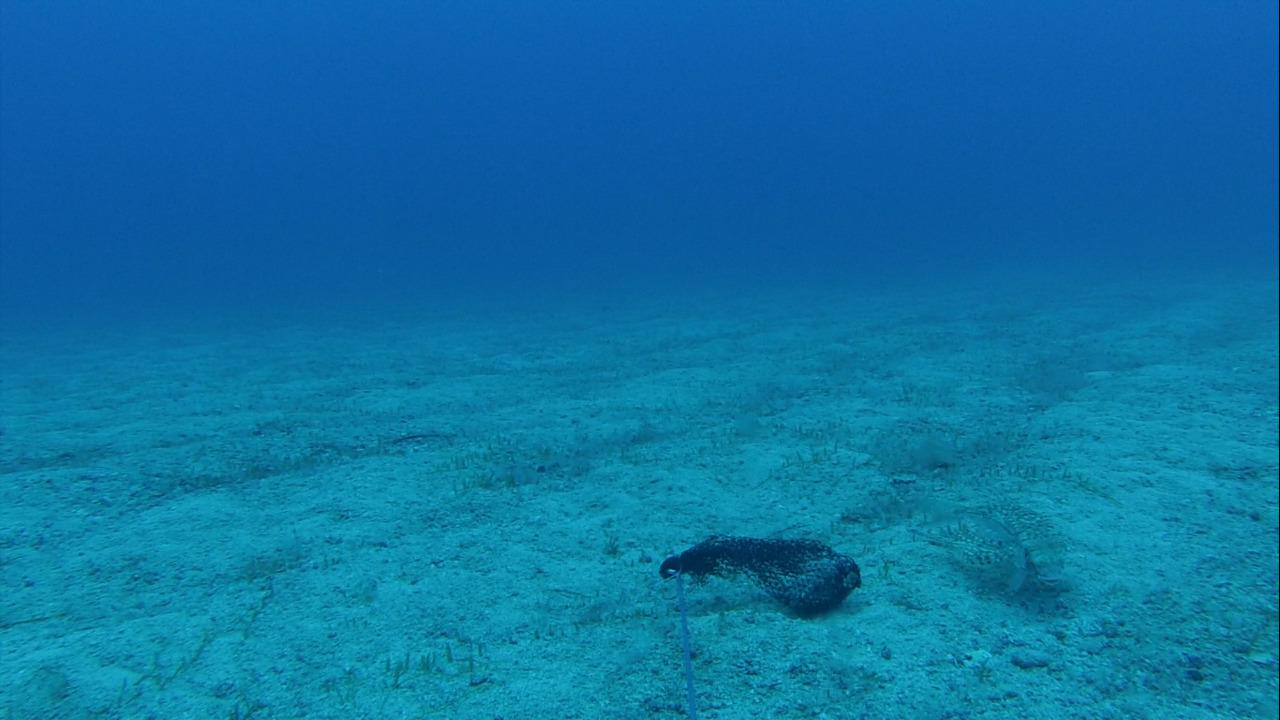dactylopterus: (867, 482, 1075, 609)
